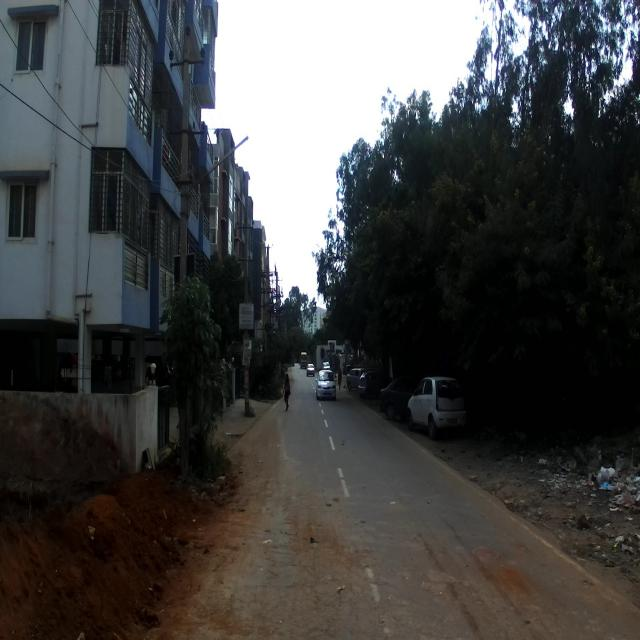Car: (315, 368, 336, 401)
Car_TATA: (405, 374, 467, 441)
